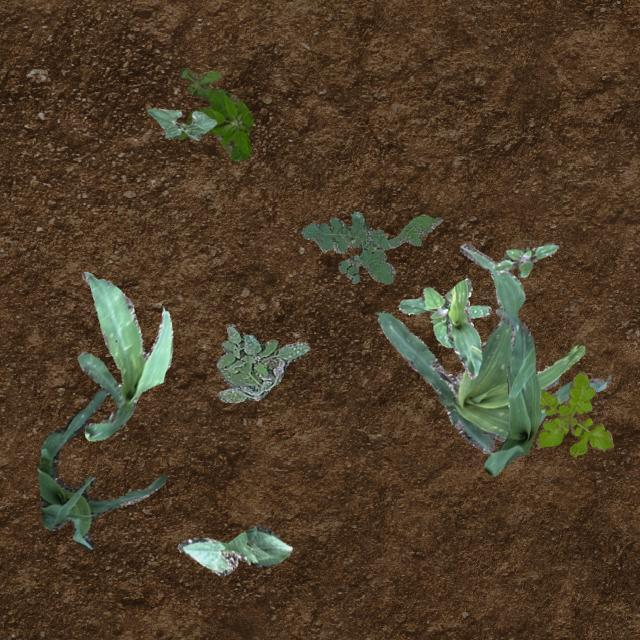crop: (376, 242, 606, 453), (36, 386, 166, 548), (76, 270, 172, 440), (484, 308, 540, 474), (176, 524, 292, 574), (442, 278, 480, 378), (146, 108, 216, 140)
weed: (299, 210, 442, 284), (215, 322, 308, 402), (175, 66, 252, 160), (536, 370, 612, 456), (398, 282, 490, 346), (492, 240, 558, 276)
